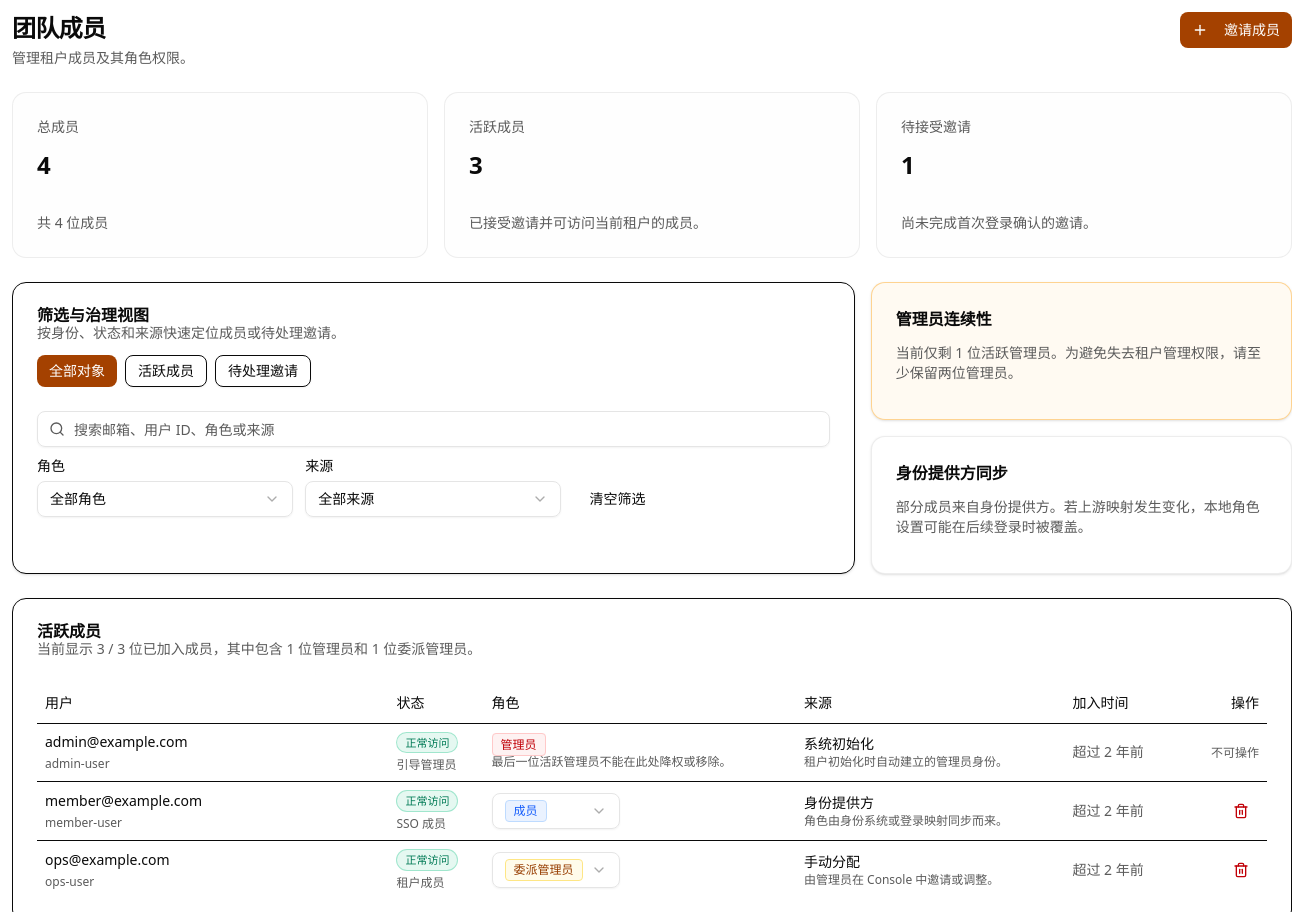
Test: MembersPage › filters members by role and source, then resets filters
The image size is (1304, 912).
Expected: the text "ops@example.com" is shown, [45,850,170,870]
Click the dropdown labelled "角色" at (165, 499), box [37,481,293,517]
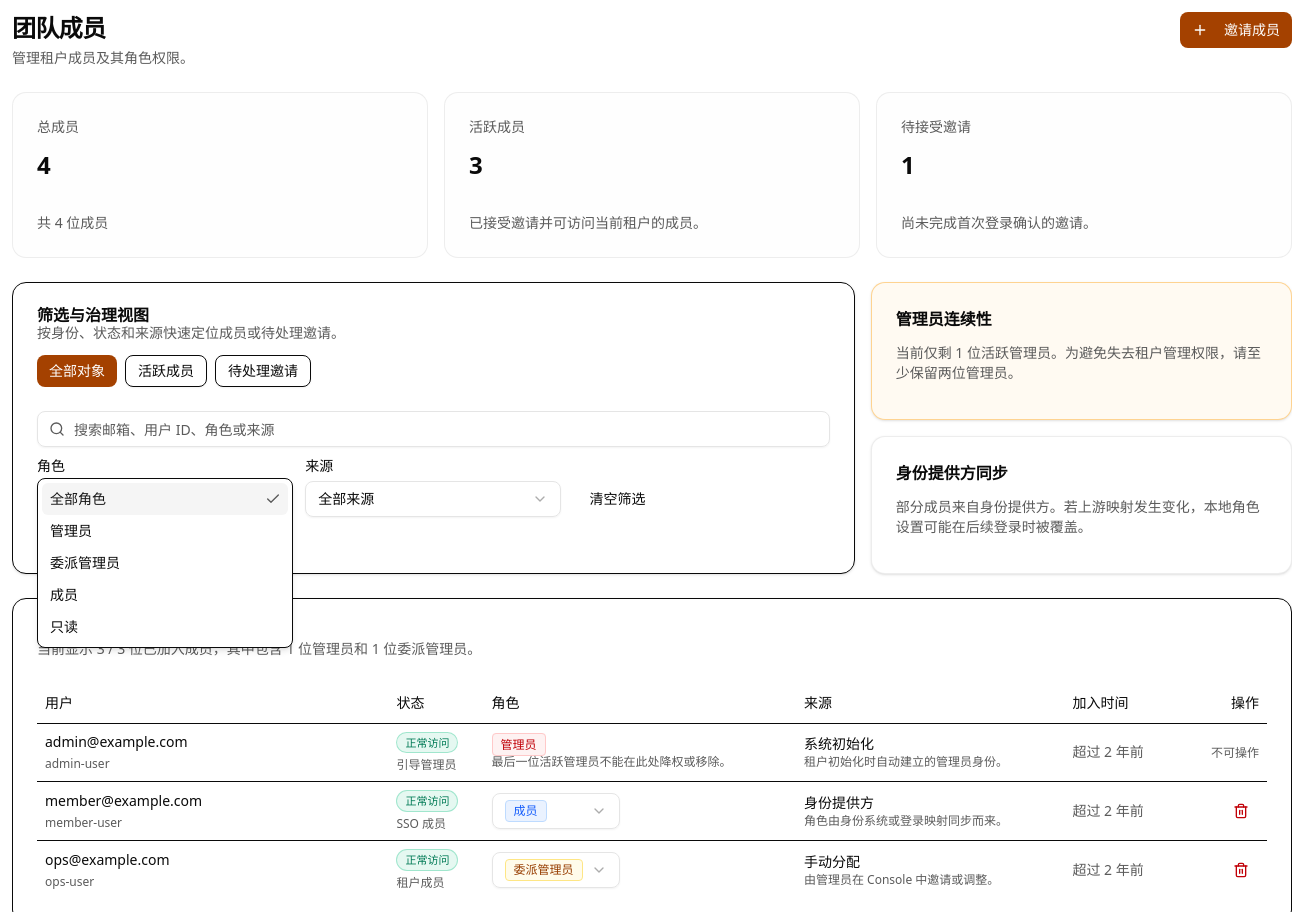
Click the option "委派管理员" at (85, 562), box [50,553,120,572]
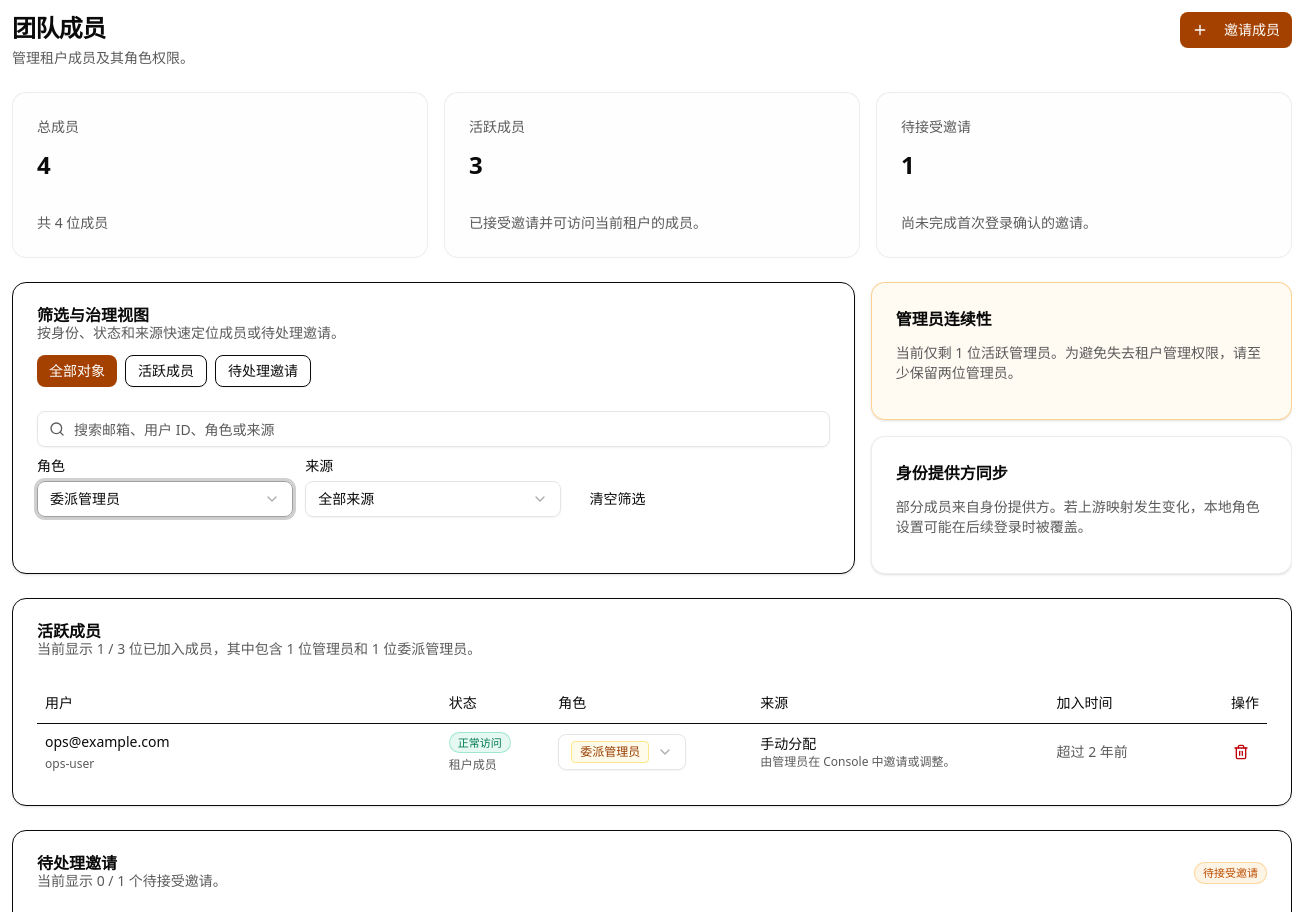
Expected: the text "ops@example.com" is shown, [45,732,170,752]
Result: the text "member@example.com" is gone
Click the dropdown labelled "来源" at (433, 499), box [305,481,561,517]
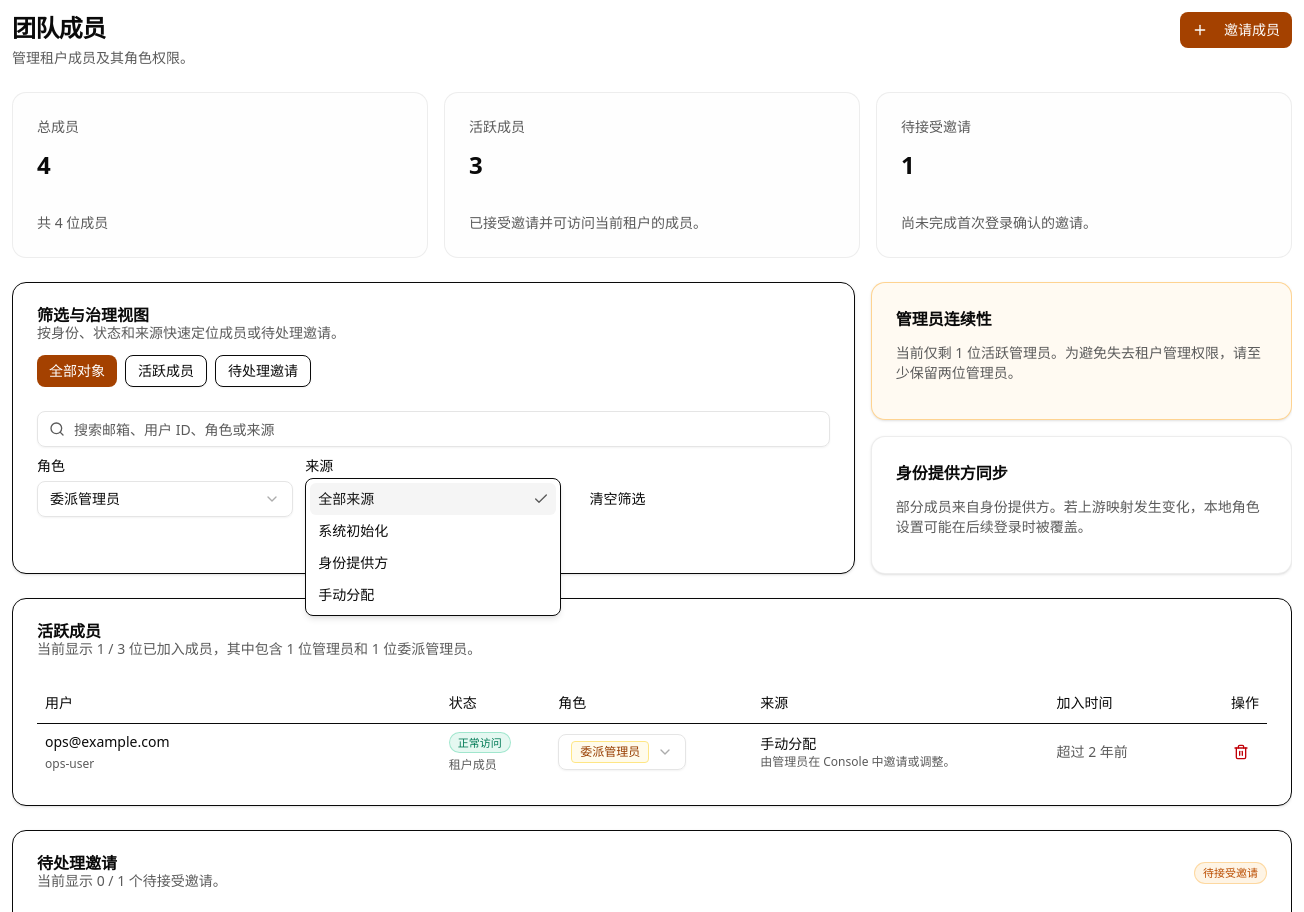
Click the option "身份提供方" at (353, 562), box [318,553,388,572]
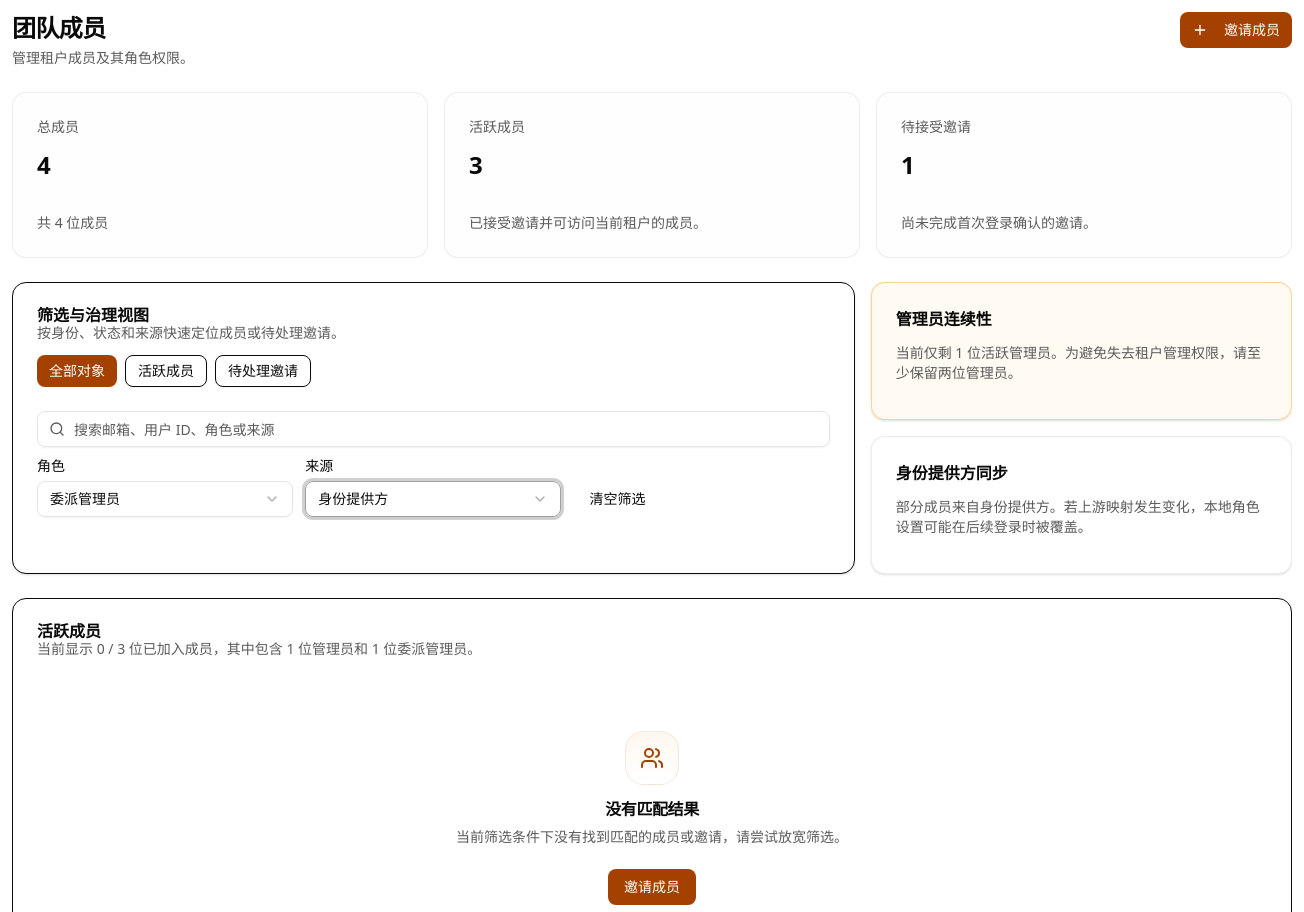
Result: the text "没有匹配结果" is shown at [605,798,699,820]
Click the button "清空筛选" at (617, 499), box [573,481,661,517]
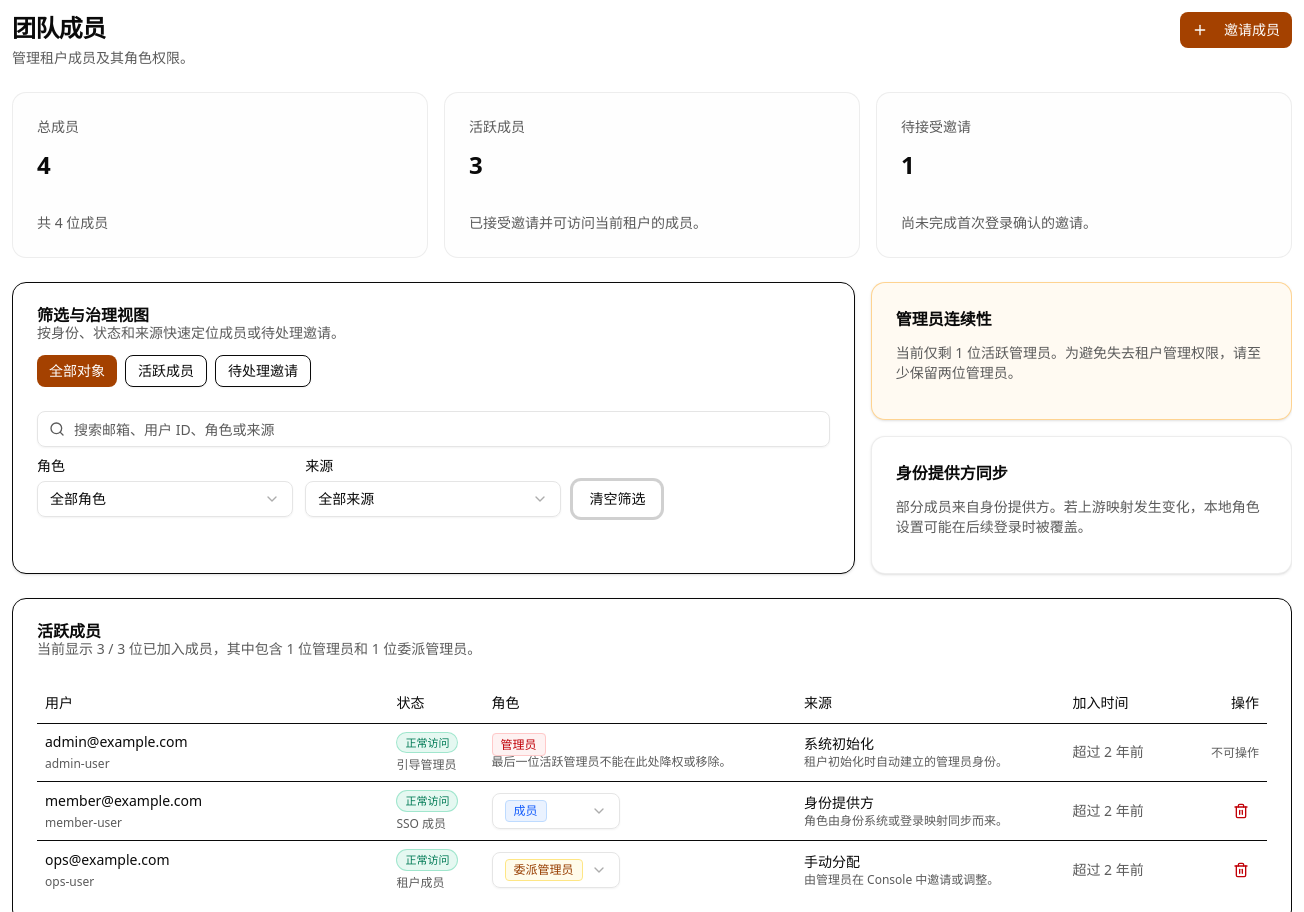
Result: the text "member@example.com" is shown at [45,791,202,811]
